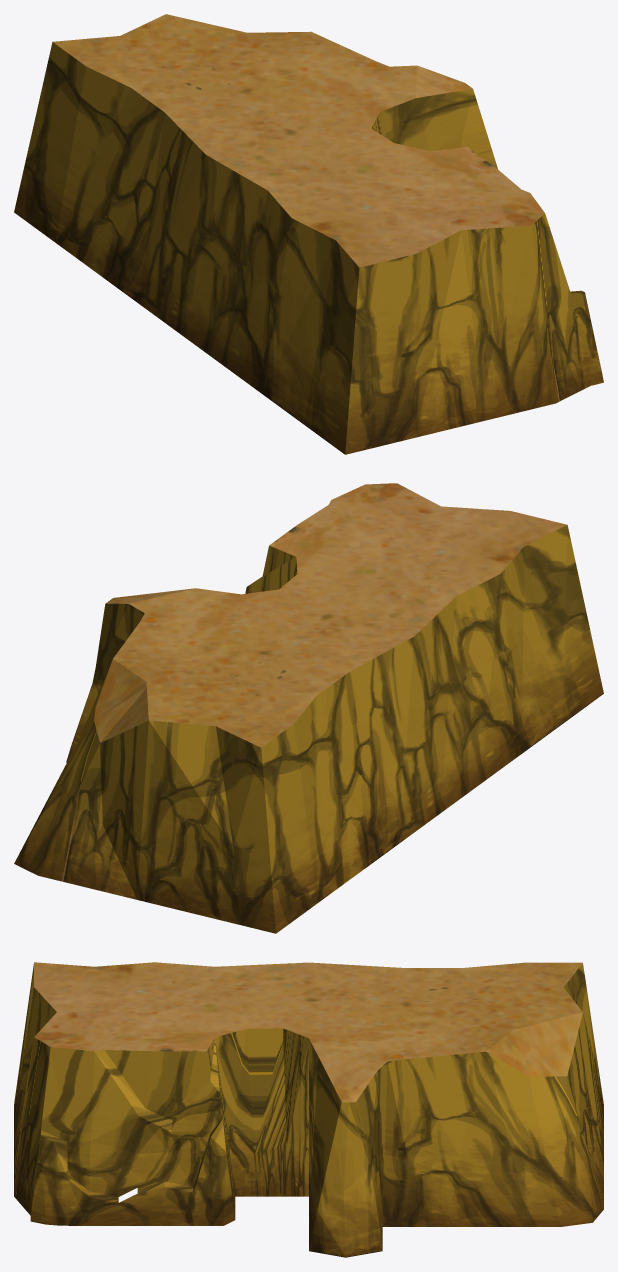
File: Wierd Piece.FBX
3 views of the same model, one above another, from view 1: azimuth 30°, elevation 25°; view 2: azimuth 150°, elevation 25°; view 3: azimuth 270°, elevation 25° (orthographic). The views are drawn at different scales.
Visible parts, largest first — view 1: Wierd Piece; view 2: Wierd Piece; view 3: Wierd Piece.
Boxes of the visible parts, x1,y1,x2,y2 form: Wierd Piece: (14,14,603,454); Wierd Piece: (14,483,603,933); Wierd Piece: (14,962,603,1257).
Size of the model in its own units: 462 by 217 by 755.
